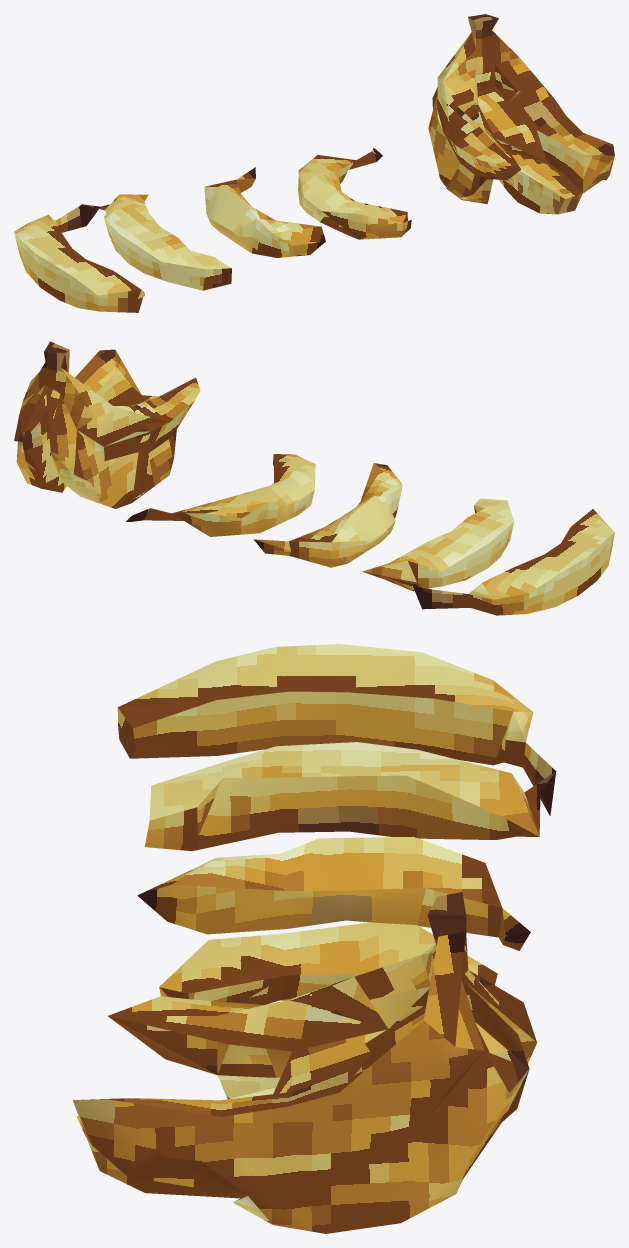
The model's file is bananas.glb.
3 renders of one model, top to bottom at view 1: azimuth 30°, elevation 25°; view 2: azimuth 150°, elevation 25°; view 3: azimuth 270°, elevation 25°, orthographic. The views are drawn at different scales.
Parts seen in each view (by area): view 1: mesh; view 2: mesh; view 3: mesh.
Boxes of the visible parts, x1=… form: mesh: x1=14, y1=14, x2=614, y2=312; mesh: x1=14, y1=341, x2=614, y2=615; mesh: x1=73, y1=644, x2=556, y2=1233.
Bounding box in the file's own units: 0.6409 × 0.1788 × 0.2548.
1 material, 1 textured.
